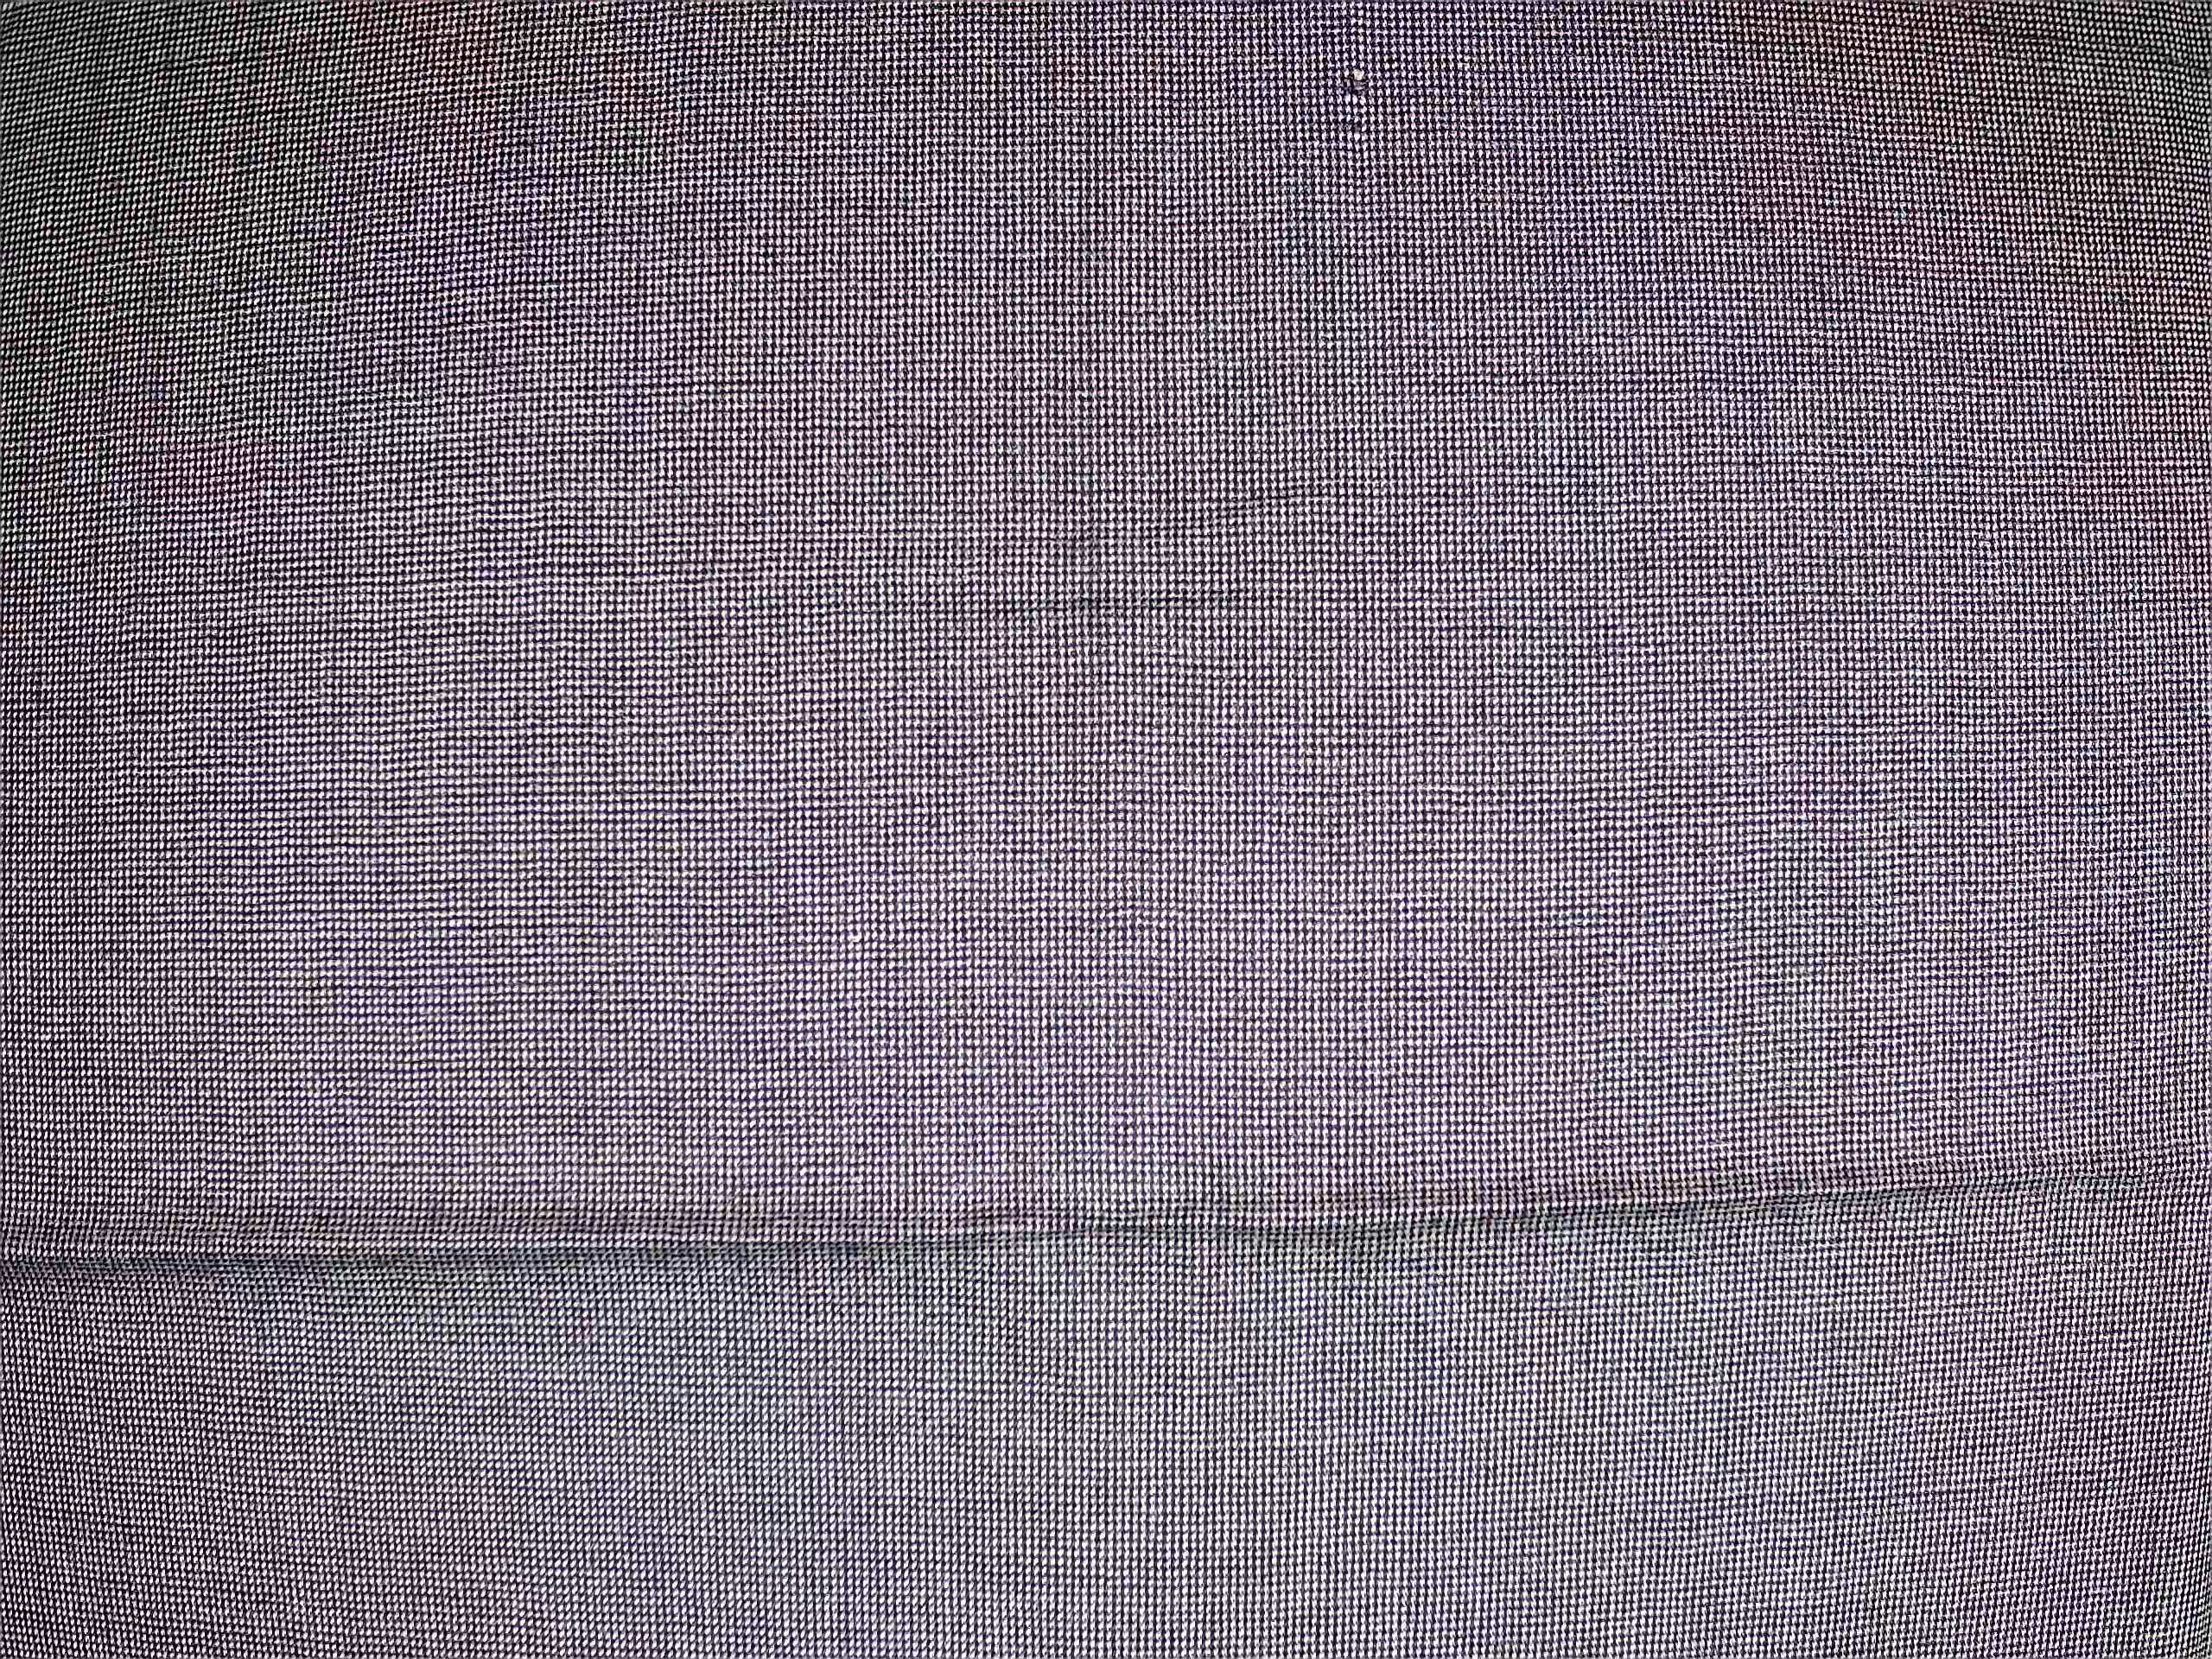rubbing-hole: (1305, 45, 1393, 143)
